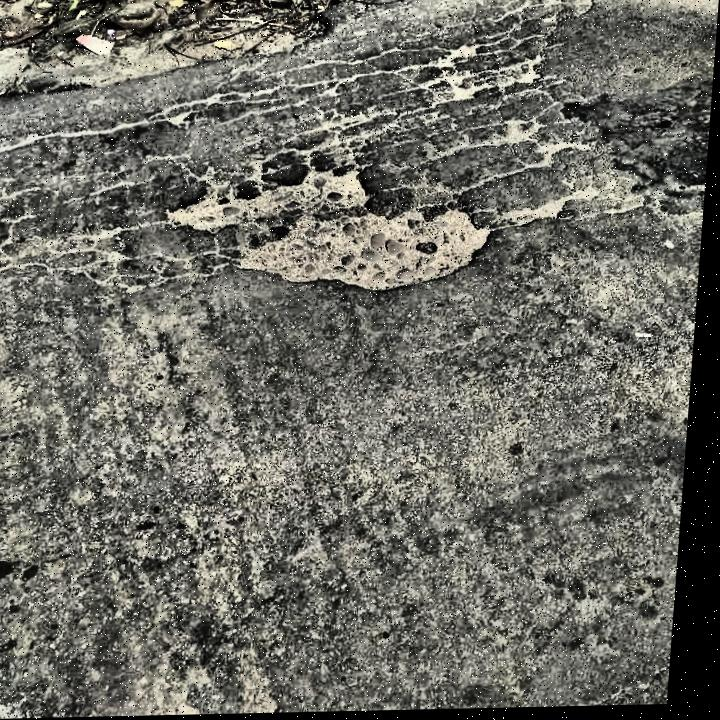pothole: (158, 161, 502, 297)
